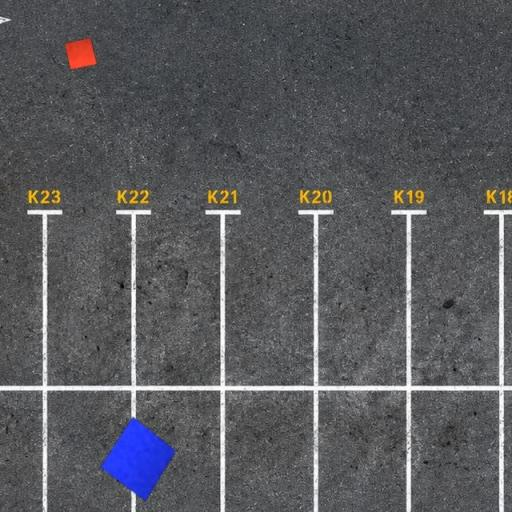BLUE_SQUARE: (100, 416, 177, 502)
RED_SQUARE: (64, 38, 98, 70)
